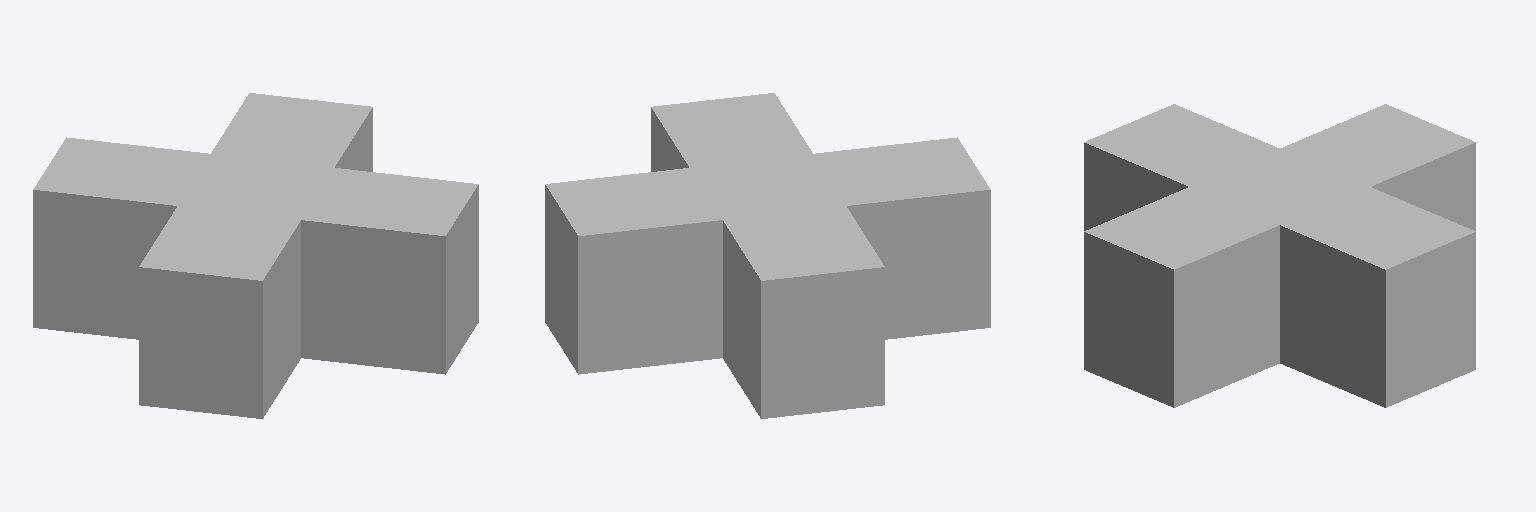
The model's file is Cross_cube_cap_rotated45_ext_preprocessed.obj.
3 renders of one model, left to right at view 1: azimuth 30°, elevation 25°; view 2: azimuth 150°, elevation 25°; view 3: azimuth 270°, elevation 25°, orthographic.
Size of the model in its own units: 0.0515 by 0.02 by 0.0515.